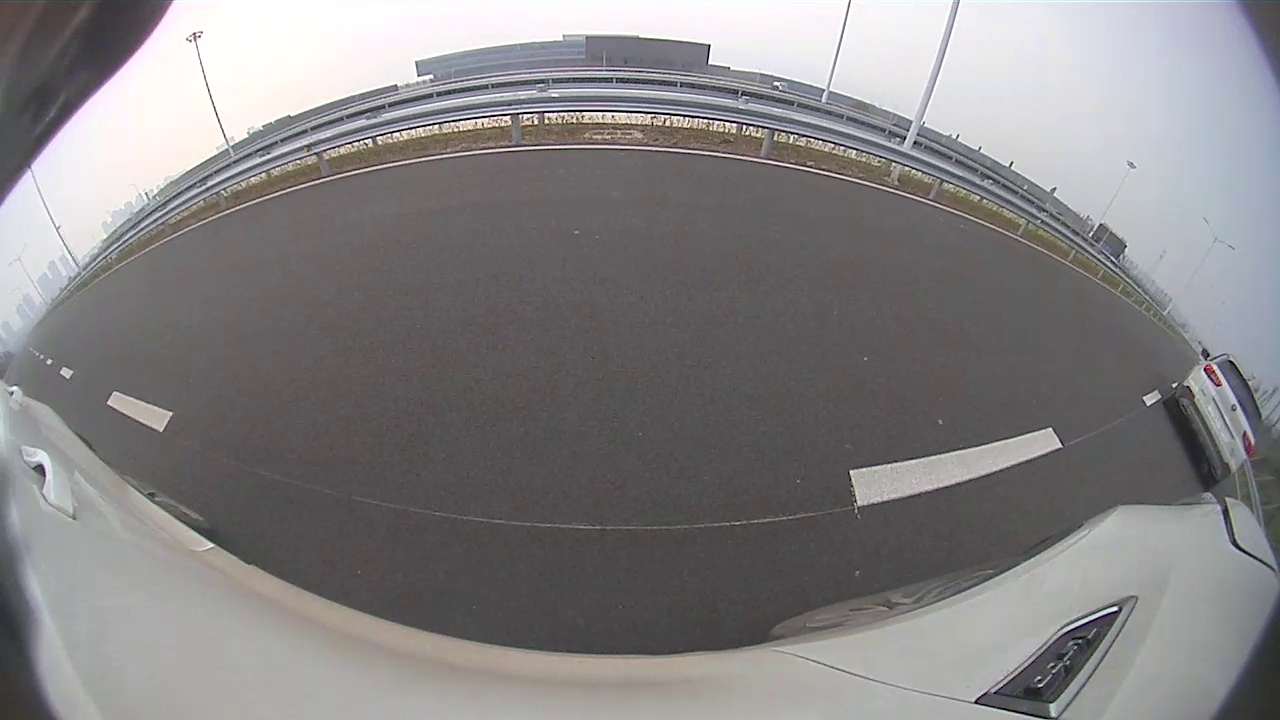car: (1163, 348, 1264, 488)
